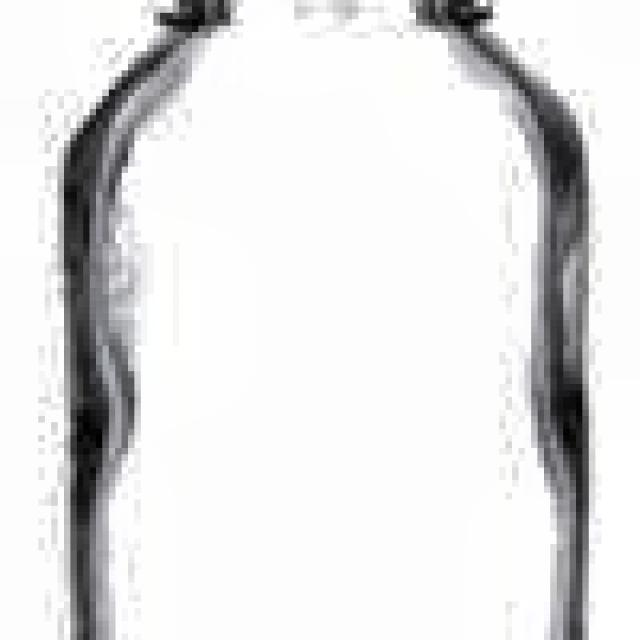glass: (61, 0, 592, 640)
